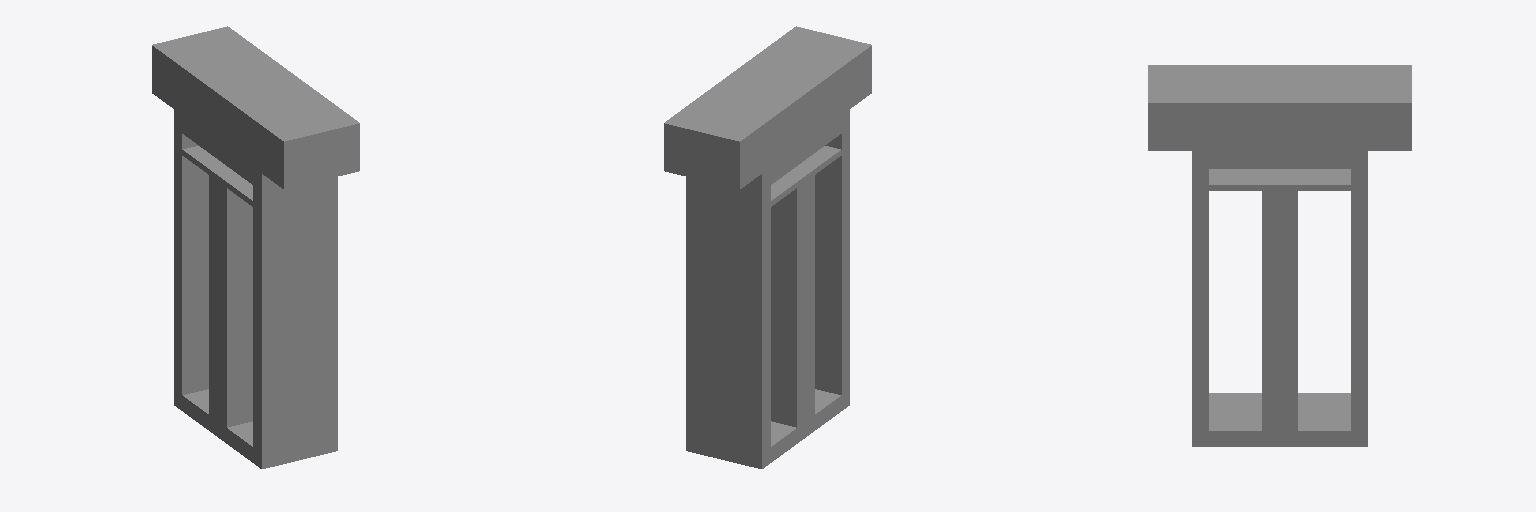
The model's file is window6.obj.
3 renders of one model, left to right at view 1: azimuth 30°, elevation 25°; view 2: azimuth 150°, elevation 25°; view 3: azimuth 270°, elevation 25°, orthographic.
Visible parts, largest first — view 1: Cube.001, Cube.002; view 2: Cube.001, Cube.002; view 3: Cube.001, Cube.002.
Part boxes in pixels (x1,y1,x2,y2): Cube.001: (174,86,337,468); Cube.002: (152,26,359,189); Cube.001: (686,103,849,468); Cube.002: (664,26,871,189); Cube.001: (1192,127,1367,446); Cube.002: (1148,65,1411,150).
Bounding box in the file's own units: 1 × 4.3 × 3.